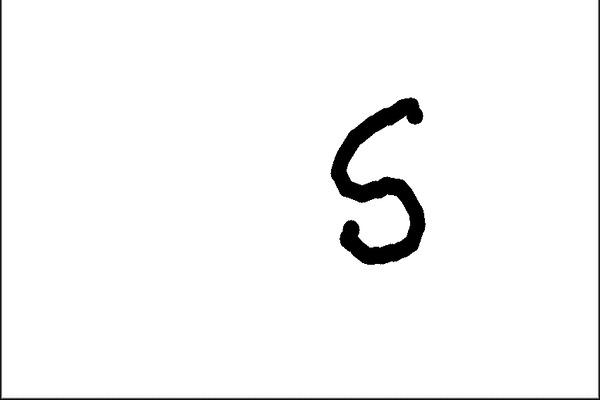S: (312, 90, 448, 266)
